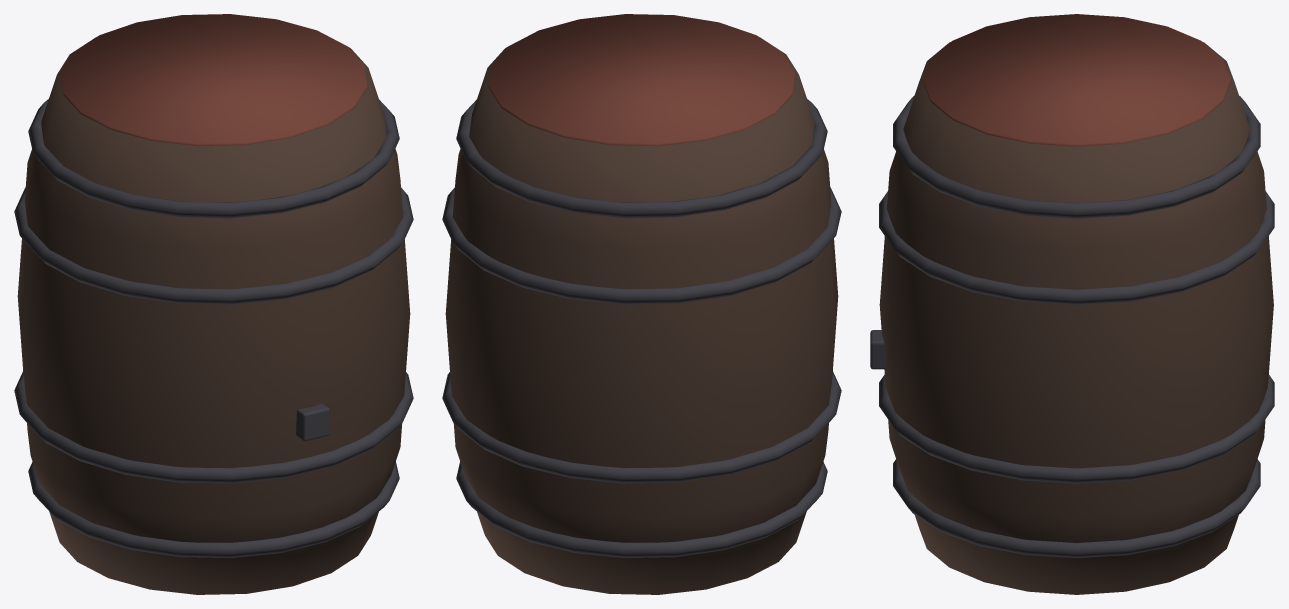
File: barrel_wine_barrel.glb
3 renders of one model, left to right at view 1: azimuth 30°, elevation 25°; view 2: azimuth 150°, elevation 25°; view 3: azimuth 270°, elevation 25°, orthographic.
Parts seen in each view (by area): view 1: GD_barrel_wine_barrel__m0, GD_barrel_wine_barrel__m2, GD_barrel_wine_barrel__m1; view 2: GD_barrel_wine_barrel__m0, GD_barrel_wine_barrel__m2, GD_barrel_wine_barrel__m1; view 3: GD_barrel_wine_barrel__m0, GD_barrel_wine_barrel__m2, GD_barrel_wine_barrel__m1.
Part boxes in pixels (bbox=[...]): GD_barrel_wine_barrel__m0: bbox=[17, 37, 410, 594]; GD_barrel_wine_barrel__m2: bbox=[61, 14, 366, 146]; GD_barrel_wine_barrel__m1: bbox=[14, 99, 413, 558]; GD_barrel_wine_barrel__m0: bbox=[445, 37, 838, 594]; GD_barrel_wine_barrel__m2: bbox=[489, 14, 794, 146]; GD_barrel_wine_barrel__m1: bbox=[442, 99, 841, 558]; GD_barrel_wine_barrel__m0: bbox=[879, 42, 1273, 594]; GD_barrel_wine_barrel__m2: bbox=[923, 14, 1230, 146]; GD_barrel_wine_barrel__m1: bbox=[870, 96, 1274, 558].
Size of the model in its own units: 0.6484 by 0.805 by 0.6559.
